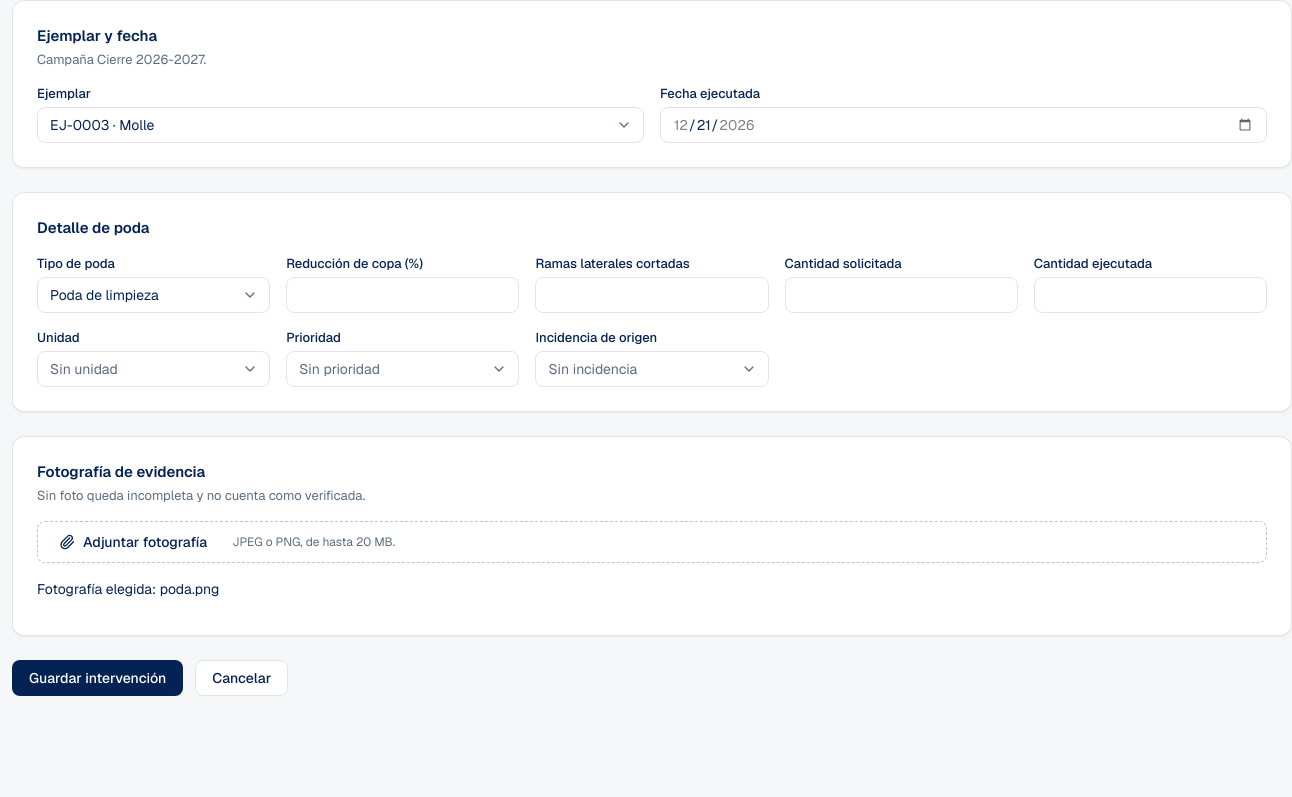
Scenario: RegistrarPodaPage › si falla la foto no pierde el registro y lo avisa en la ficha
Earlier steps of the test are not shown.
Click the button "Guardar intervención" at [98, 678], box [12,660,183,696]
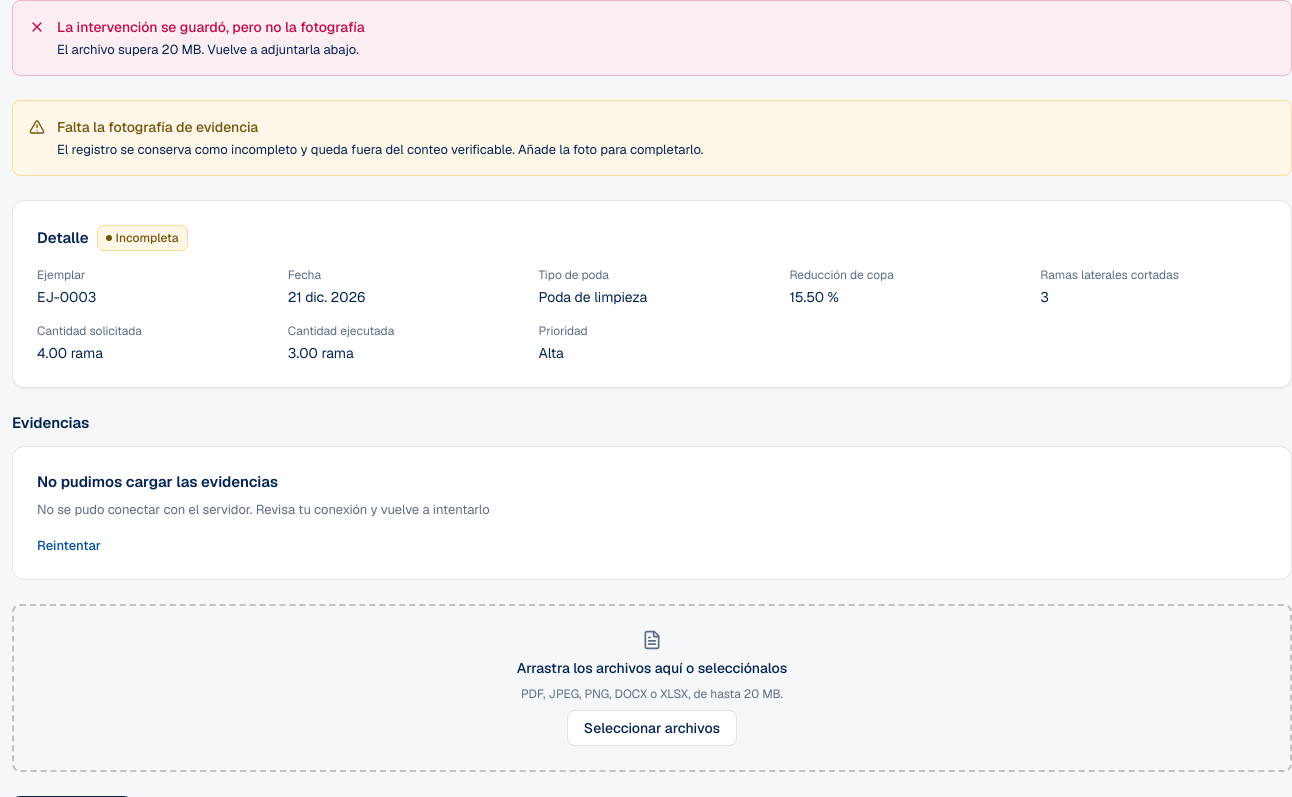
Now the text "La intervención se guardó, pero no la fotografía" is shown, box [57,18,365,36]
